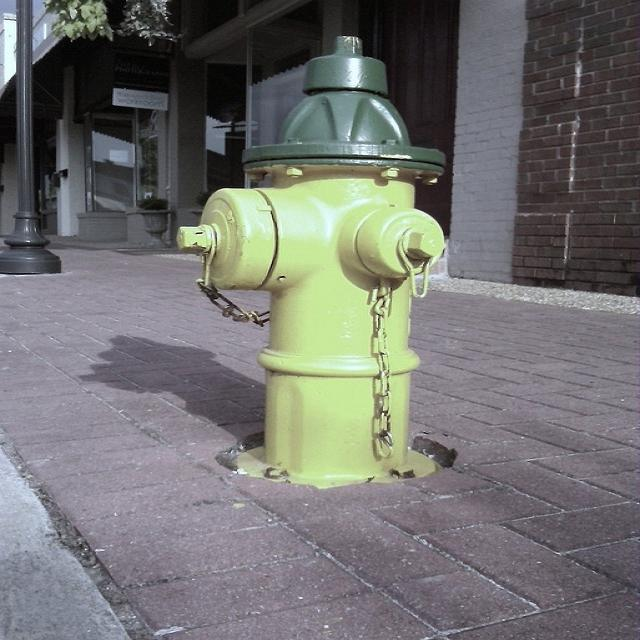fire_hydrant: (154, 23, 536, 550)
